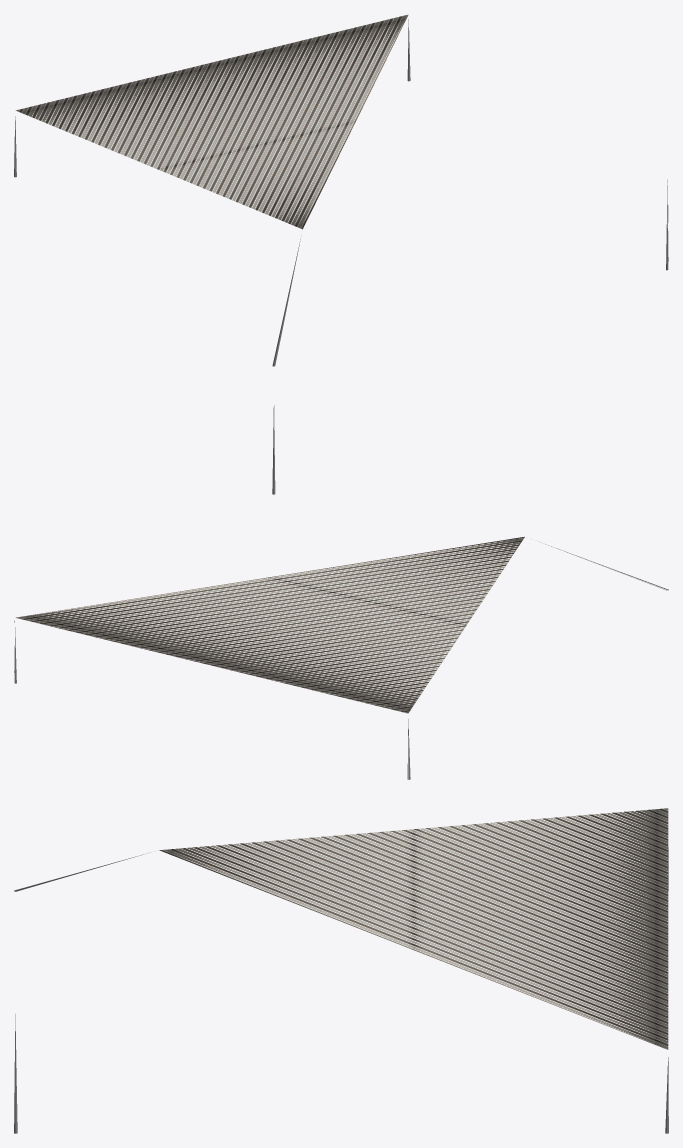
Rendered from KibuiShed_LOD2.gltf.
3 renders of one model, top to bottom at view 1: azimuth 30°, elevation 25°; view 2: azimuth 150°, elevation 25°; view 3: azimuth 270°, elevation 25°, orthographic. The views are drawn at different scales.
Parts seen in each view (by area): view 1: node5, node6; view 2: node5, node6; view 3: node5, node6.
Boxes of the visible parts, x1,y1,x2,y2 form: node5: (15, 14, 408, 229); node6: (14, 19, 668, 366); node5: (15, 536, 524, 713); node6: (14, 405, 668, 779); node5: (159, 808, 668, 1049); node6: (14, 847, 668, 1133).
Bounding box in the file's own units: 22.04 × 5.25 × 25.04.
